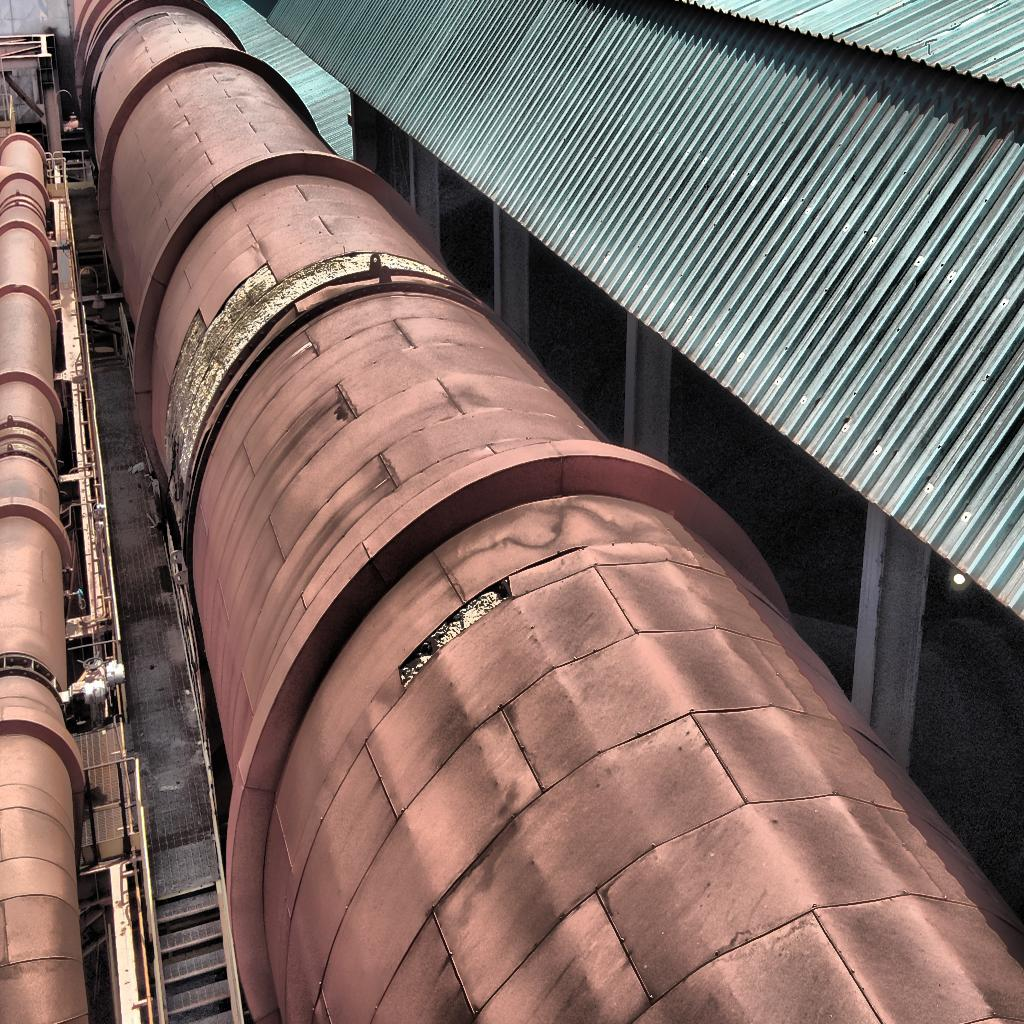Failures: (127, 251, 453, 519), (364, 574, 542, 724)
